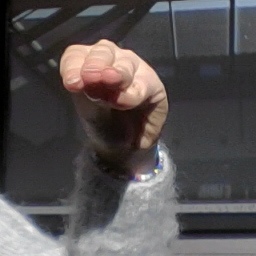M: (58, 37, 173, 153)
